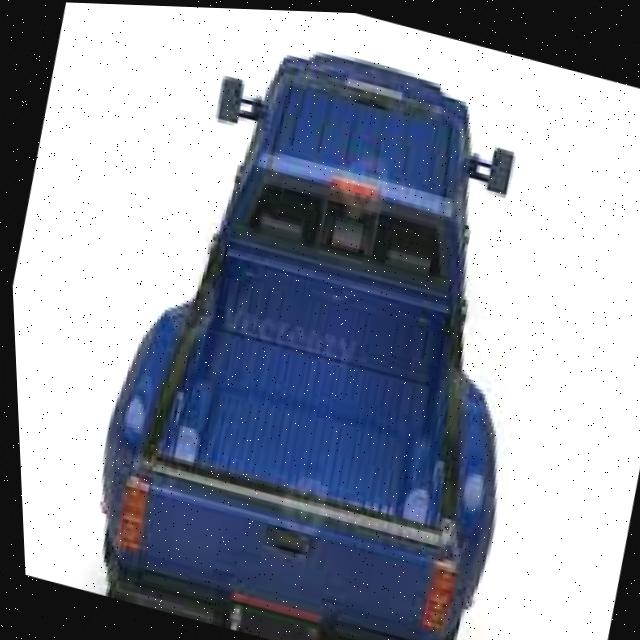truck: (65, 7, 587, 640)
